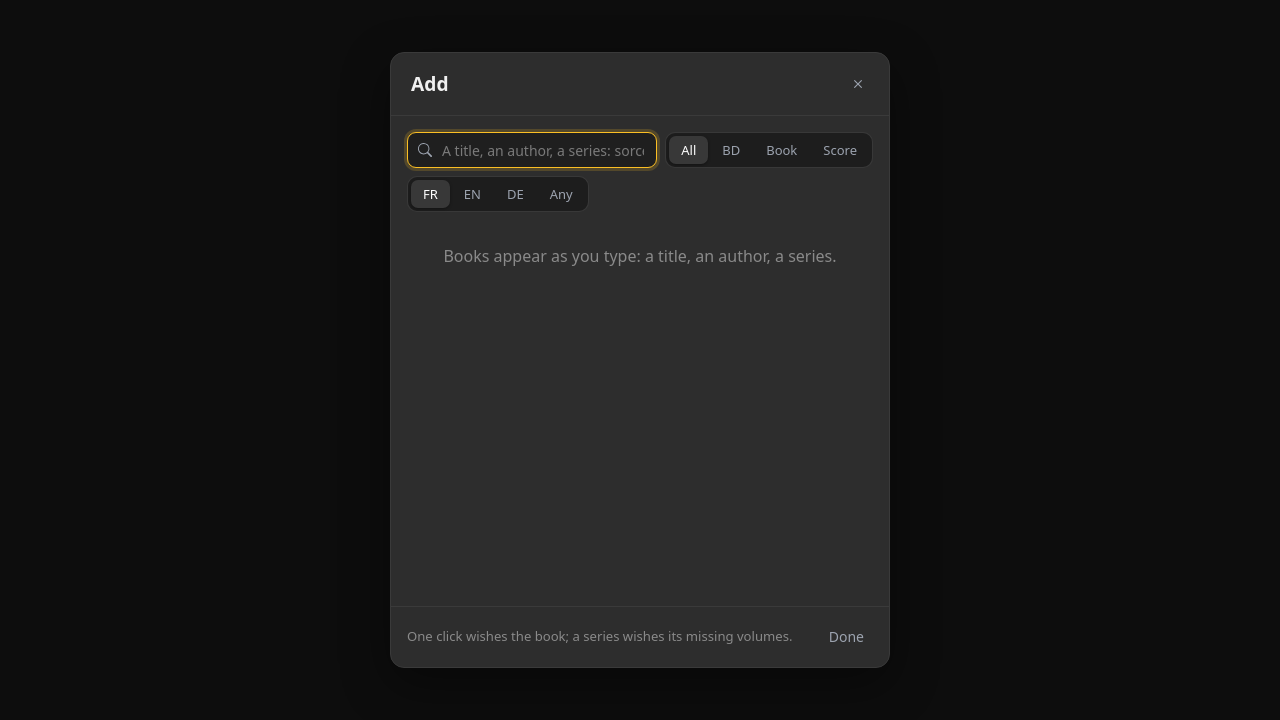
Test: BookFinder › le type choisi filtre les livres, dit combien il en cache, et relance la recherche
The width and height of the screenshot is (1280, 720).
Replace the text in the field named "search for a book" with "sorceline" at (532, 150), box [407,132,657,168]
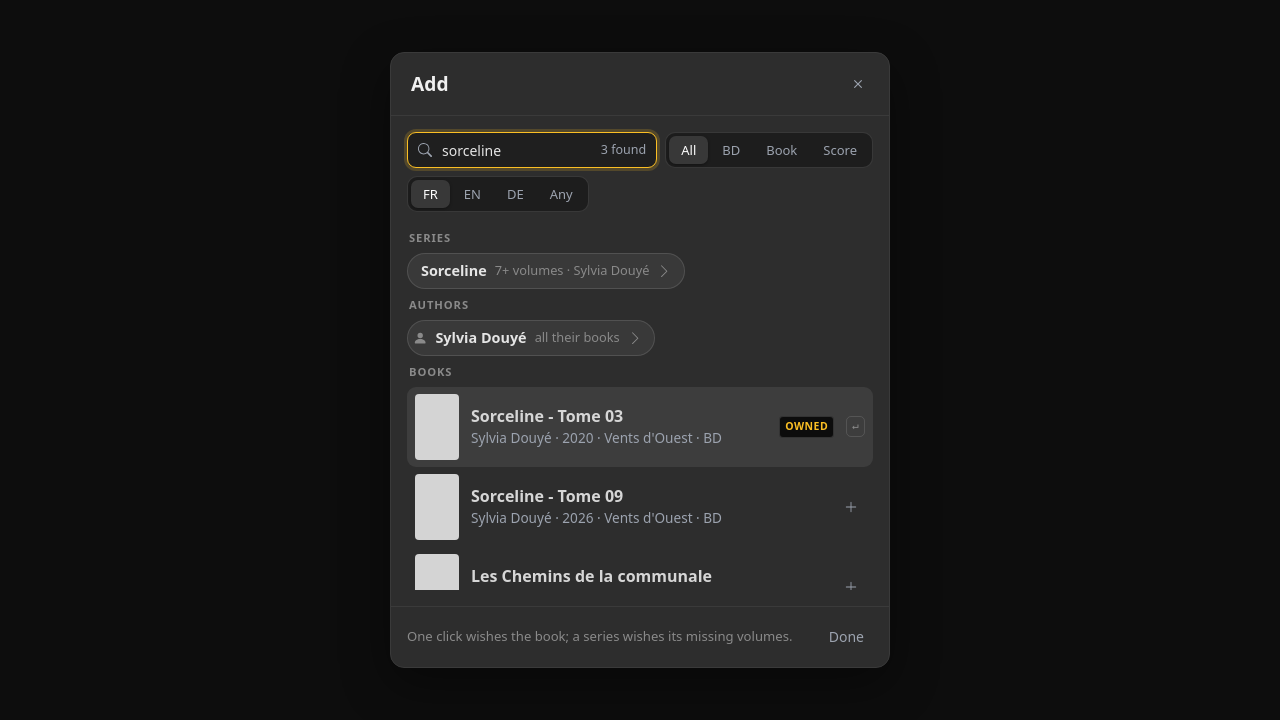
Now the text "Les Chemins de la communale" is shown, box [471,565,712,587]
Click the radio button labelled "BD".
click(731, 150)  # box [710,136,752,164]
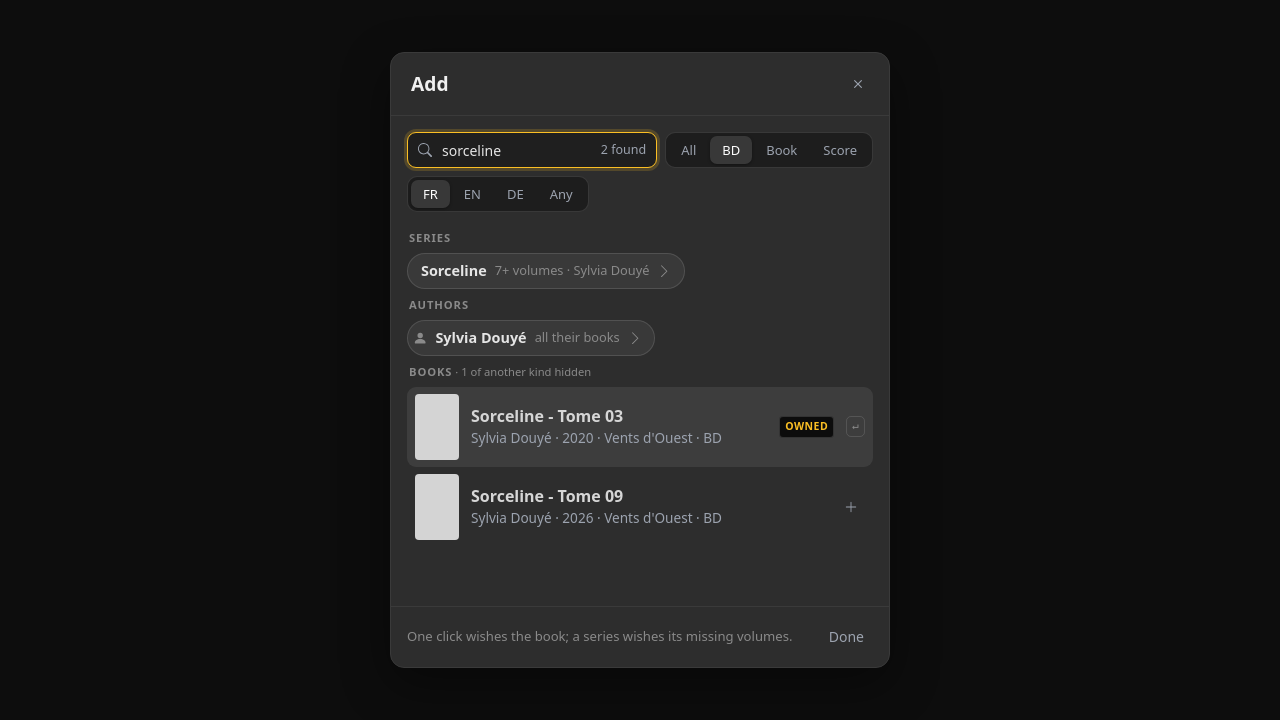
Now the option "Les Chemins de la communale" is gone
Now the text "· 1 of another kind hidden" is shown, box [452,364,591,379]
